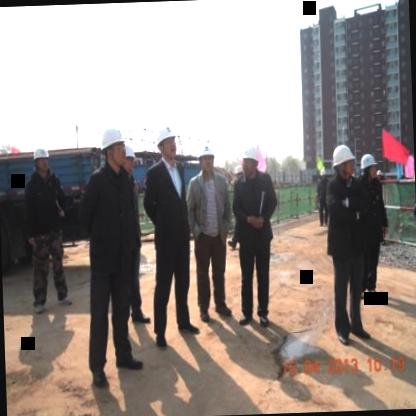helmet: (98, 122, 128, 172), (154, 121, 178, 163), (330, 145, 355, 183), (194, 139, 216, 176), (240, 142, 261, 180), (358, 148, 379, 186), (30, 142, 52, 176), (121, 142, 140, 178)
